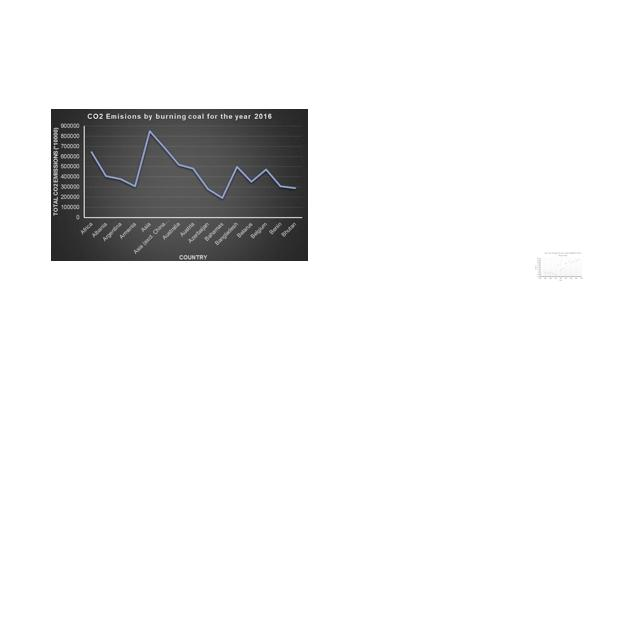Graph: (51, 109, 308, 261), (534, 251, 584, 282)
